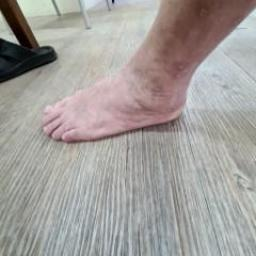Lateral View -Left Foot-: (22, 44, 220, 159)
